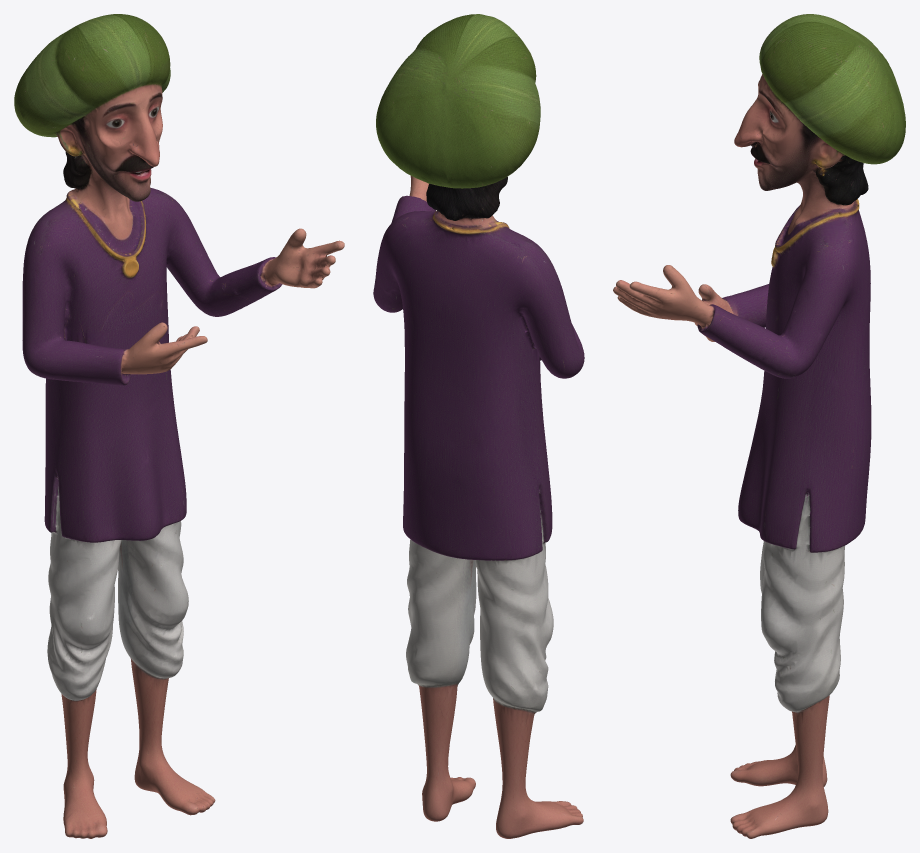
Rendered from gavkari3.glb.
3 renders of one model, left to right at view 1: azimuth 30°, elevation 25°; view 2: azimuth 150°, elevation 25°; view 3: azimuth 270°, elevation 25°, orthographic. The views are drawn at different scales.
Visible parts, largest first — view 1: Mesh_0; view 2: Mesh_0; view 3: Mesh_0.
Boxes of the visible parts, bbox=[...] form: Mesh_0: bbox=[14, 14, 344, 838]; Mesh_0: bbox=[373, 14, 584, 838]; Mesh_0: bbox=[613, 14, 905, 838].
Size of the model in its own units: 0.6062 by 1.91 by 0.6443.
1 material, 1 textured.
